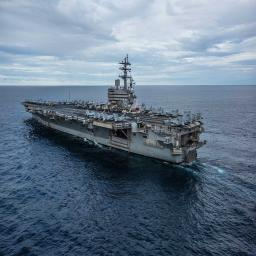Portanaves: (21, 53, 209, 176)
